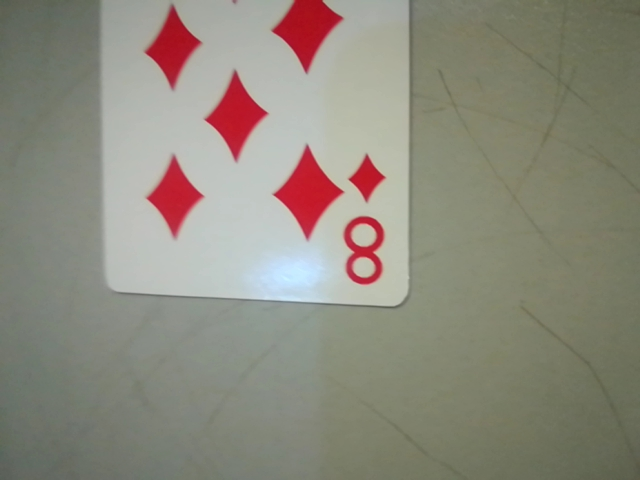fk 8: (334, 151, 400, 297)
